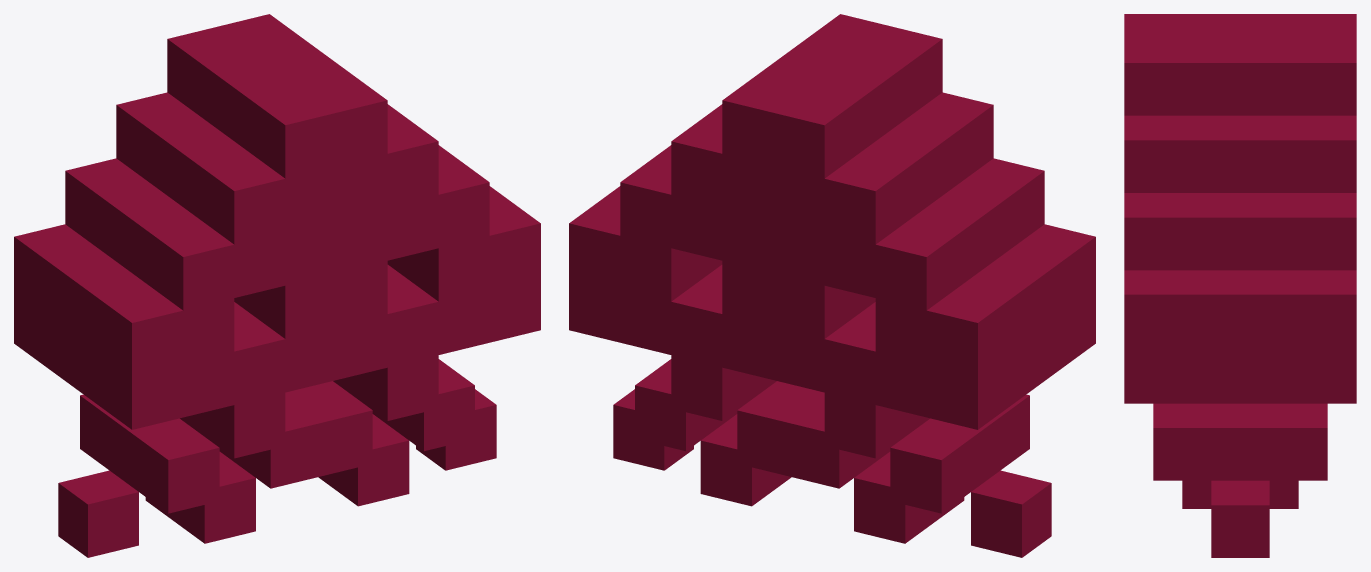
The picture shows the model from 3 angles, left to right: view 1: azimuth 30°, elevation 25°; view 2: azimuth 150°, elevation 25°; view 3: azimuth 270°, elevation 25°; orthographic projection.
Visible parts, largest first — view 1: generated; view 2: generated; view 3: generated.
Part boxes in pixels (left/top/right/bottom): generated: left=14, top=14, right=540, bottom=557; generated: left=569, top=14, right=1095, bottom=557; generated: left=1124, top=14, right=1356, bottom=557.
Bounding box in the file's own units: 80 × 80 × 40.
